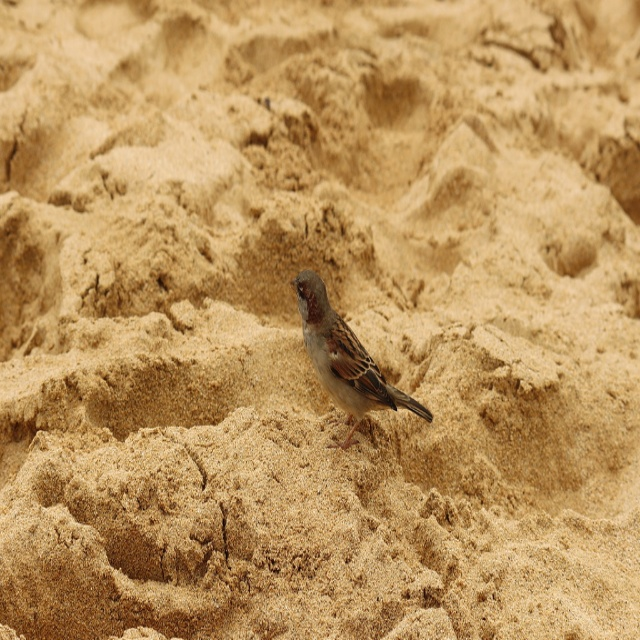Sparrow: (284, 259, 438, 453)
